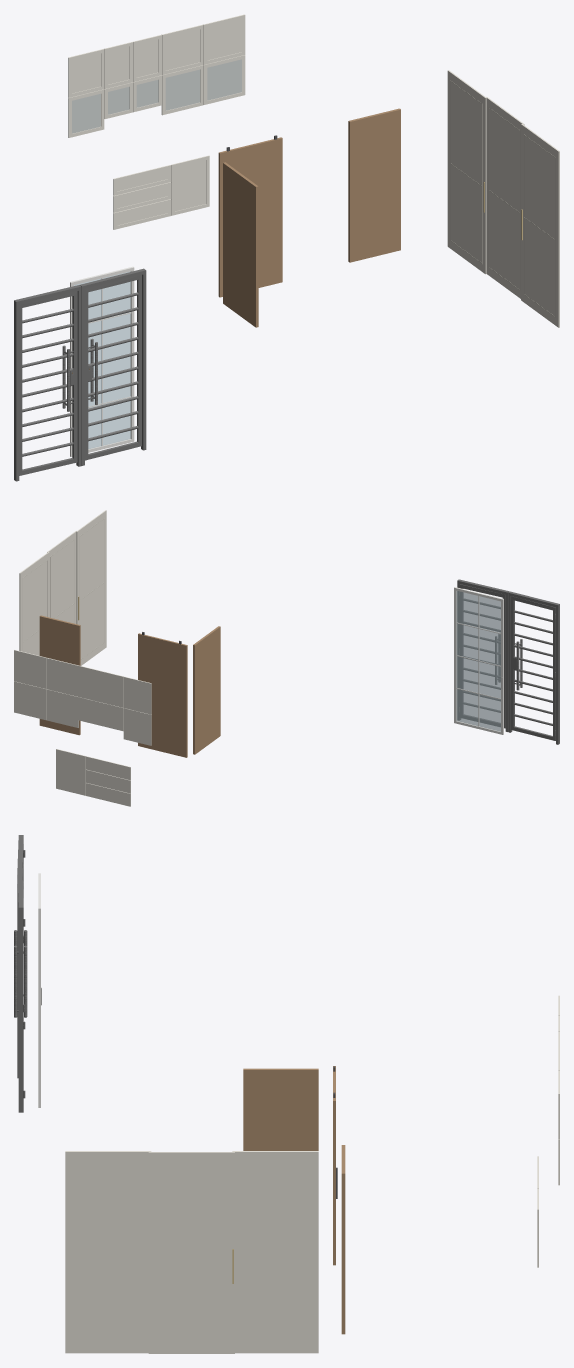
Rendered from interactive.glb.
The picture shows the model from 3 angles, top to bottom: view 1: azimuth 30°, elevation 25°; view 2: azimuth 150°, elevation 25°; view 3: azimuth 270°, elevation 25°; orthographic projection. The views are drawn at different scales.
Visible parts, largest first — view 1: INT_bath_door_p0, INT_wardrobe_3_0_p0, INT_wardrobe_1_0_p0, INT_wardrobe_2_0_p0, INT_garden_slider_4_p0, INT_bedroom_door_0_p0, INT_office_door_p0, INT_sec_L_p6, INT_sec_R_p6, INT_sec_L_p12, INT_k_sinkdoor_p0, INT_sec_R_p12 (+17 smaller); view 2: INT_garden_slider_4_p0, INT_bedroom_door_0_p0, INT_wardrobe_1_0_p0, INT_office_door_p0, INT_wardrobe_3_0_p0, INT_sec_L_p6, INT_wardrobe_2_0_p0, INT_bath_door_p0, INT_sec_R_p6, INT_sec_L_p12, INT_k_sinkdoor_p0, INT_sec_R_p12 (+15 smaller); view 3: INT_wardrobe_2_0_p0, INT_wardrobe_1_0_p0, INT_wardrobe_3_0_p0, INT_office_door_p0, INT_sec_R_p12, INT_bath_door_p0.
Part boxes in pixels (x1,y1,x2,y2): INT_bath_door_p0: [348, 108, 400, 262]; INT_wardrobe_3_0_p0: [447, 70, 486, 274]; INT_wardrobe_1_0_p0: [521, 124, 559, 327]; INT_wardrobe_2_0_p0: [486, 97, 524, 298]; INT_garden_slider_4_p0: [74, 271, 130, 448]; INT_bedroom_door_0_p0: [218, 137, 282, 297]; INT_office_door_p0: [223, 162, 258, 327]; INT_sec_L_p6: [19, 291, 77, 475]; INT_sec_R_p6: [85, 275, 141, 460]; INT_sec_L_p12: [14, 285, 81, 481]; INT_k_sinkdoor_p0: [171, 155, 209, 215]; INT_sec_R_p12: [80, 268, 146, 465]; INT_garden_slider_4_p0: [456, 591, 500, 731]; INT_bedroom_door_0_p0: [138, 633, 187, 757]; INT_wardrobe_1_0_p0: [76, 510, 106, 665]; INT_office_door_p0: [193, 626, 220, 754]; INT_wardrobe_3_0_p0: [19, 552, 49, 655]; INT_sec_L_p6: [511, 596, 555, 740]; INT_wardrobe_2_0_p0: [47, 531, 76, 623]; INT_bath_door_p0: [39, 615, 80, 735]; INT_sec_R_p6: [459, 584, 505, 728]; INT_sec_L_p12: [508, 591, 559, 744]; INT_k_sinkdoor_p0: [56, 749, 85, 795]; INT_sec_R_p12: [457, 579, 509, 731]; INT_wardrobe_2_0_p0: [148, 1152, 234, 1353]; INT_wardrobe_1_0_p0: [65, 1151, 151, 1353]; INT_wardrobe_3_0_p0: [232, 1151, 318, 1353]; INT_office_door_p0: [243, 1068, 318, 1150]; INT_sec_R_p12: [17, 871, 23, 1112]; INT_bath_door_p0: [341, 1145, 345, 1334].
Size of the model in its own units: 8.84 by 2.7 by 6.46.
Materials: 13 (1 with a texture image).
